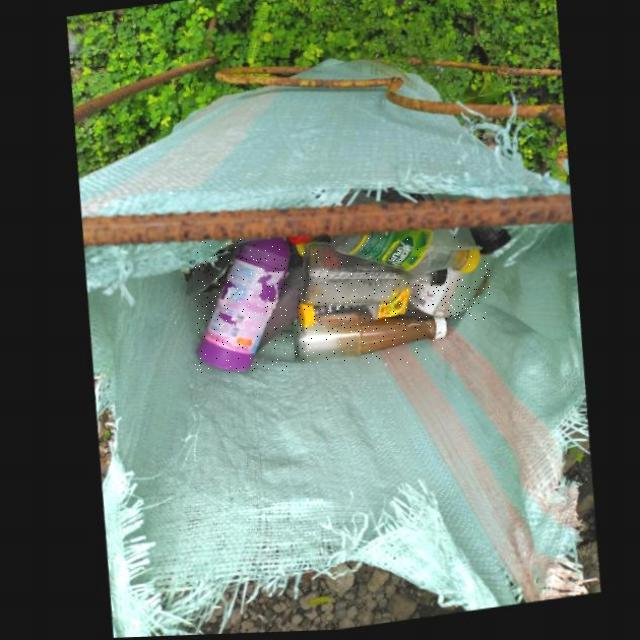glass: (300, 247, 445, 308), (291, 320, 445, 364)
metal: (416, 260, 490, 321)
plastic: (195, 239, 287, 374), (328, 233, 478, 278), (298, 287, 417, 332)
